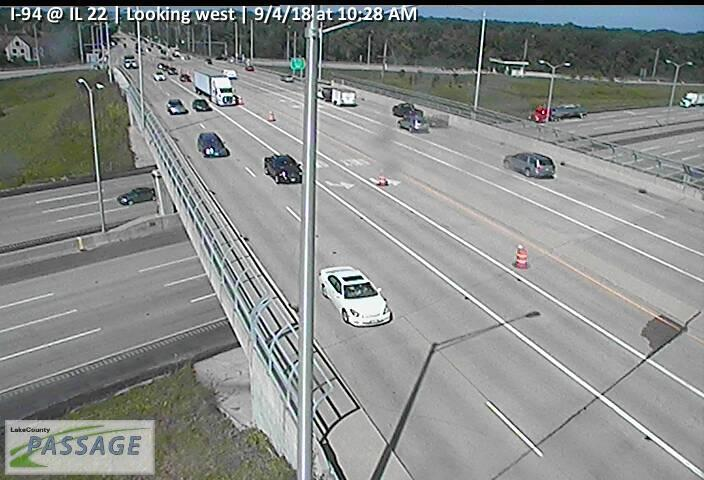Sedan: (318, 265, 392, 328), (504, 152, 555, 179), (264, 154, 301, 184), (197, 132, 229, 160), (117, 184, 154, 205), (167, 99, 186, 114), (192, 99, 210, 112)
Truck: (192, 70, 238, 107), (530, 102, 587, 122), (316, 83, 357, 107), (680, 91, 703, 108)
